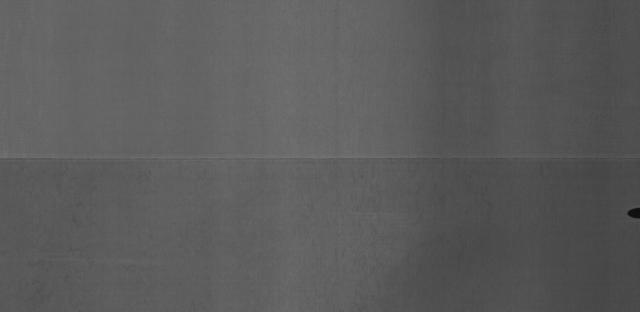punching_hole: (626, 206, 640, 222)
